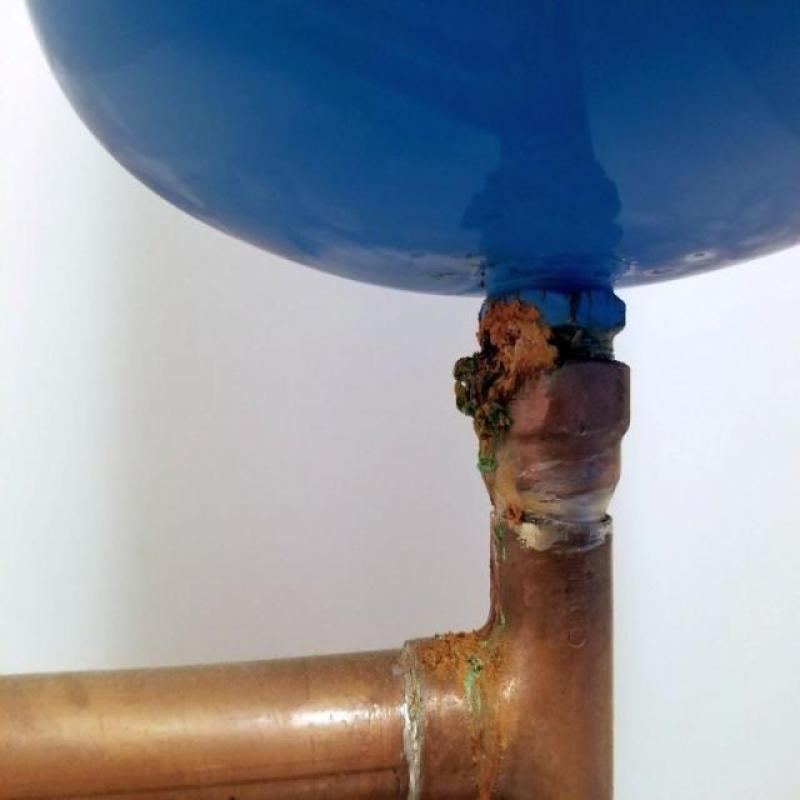corrosion: (430, 295, 545, 470)
